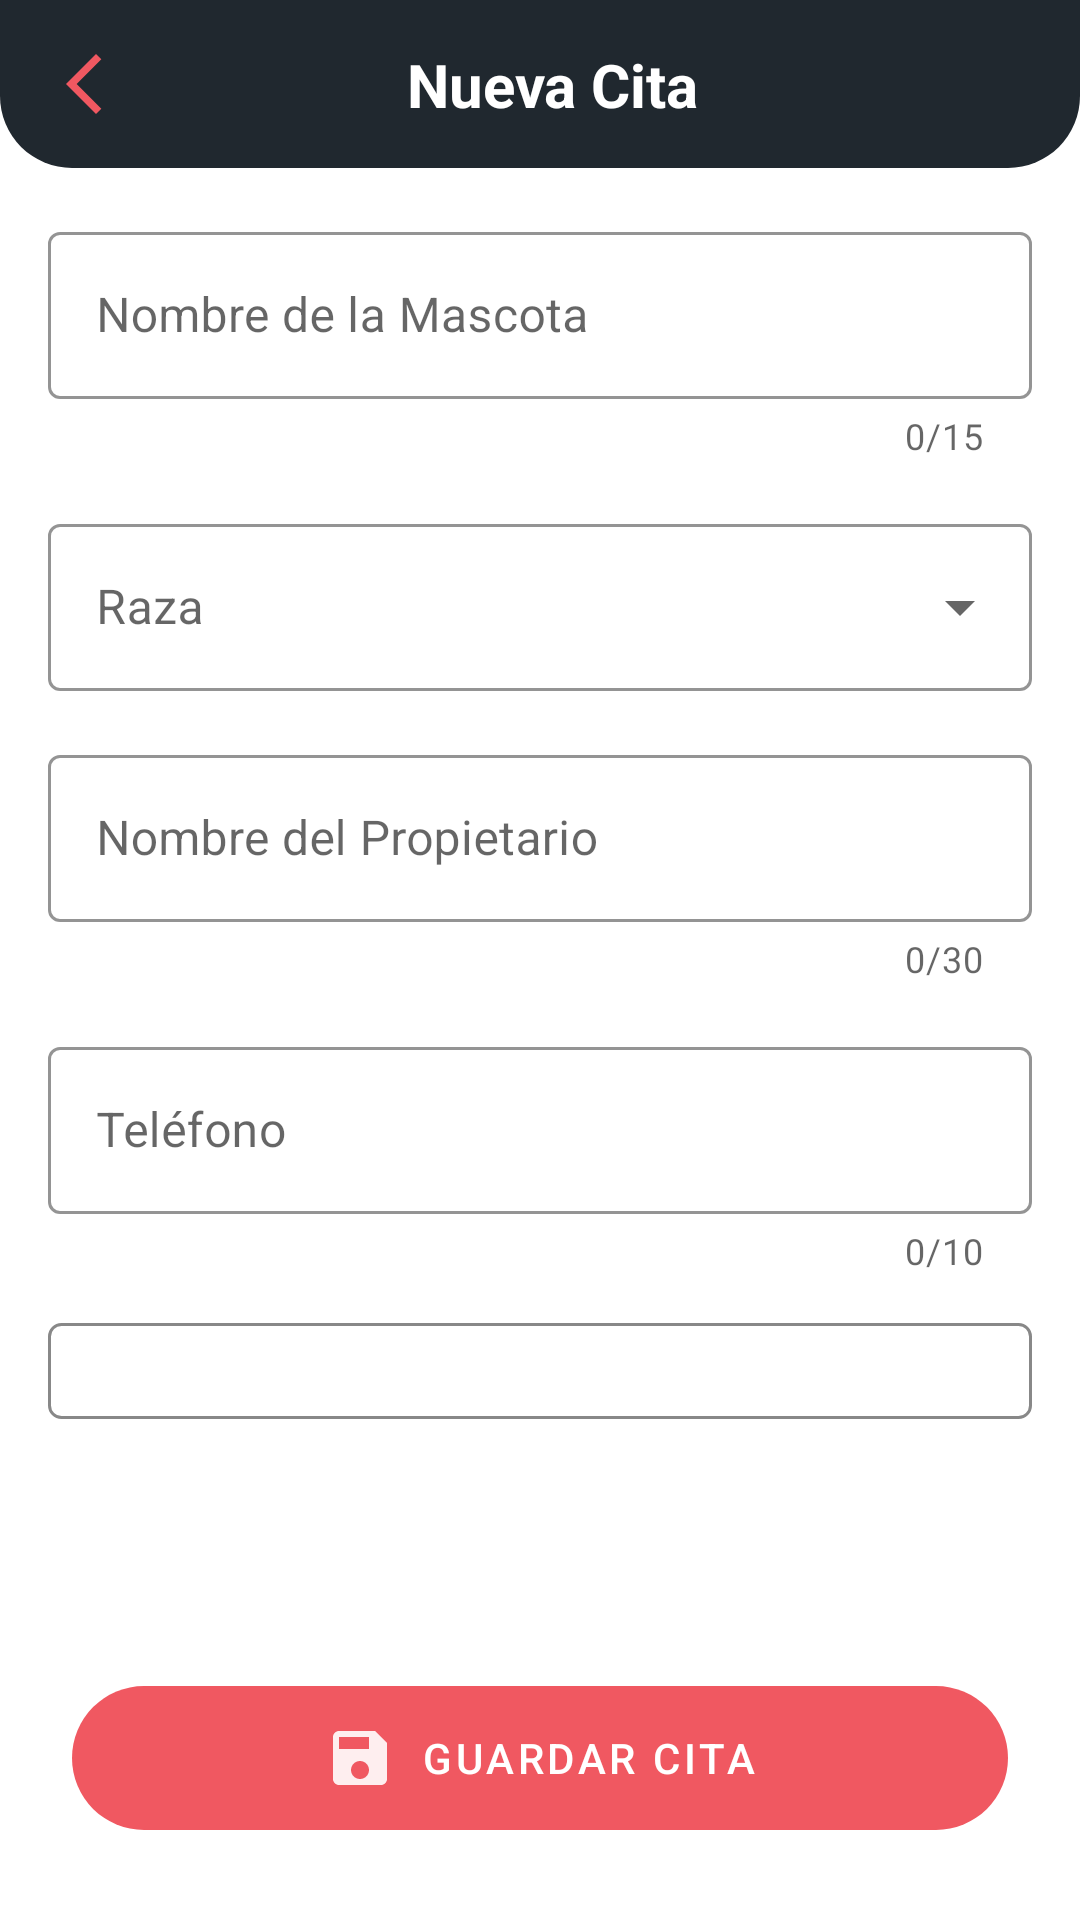

Where to tap for icons on this 1080px×1920px app screen, as point (x, y):
arrow back: point (84, 84)
